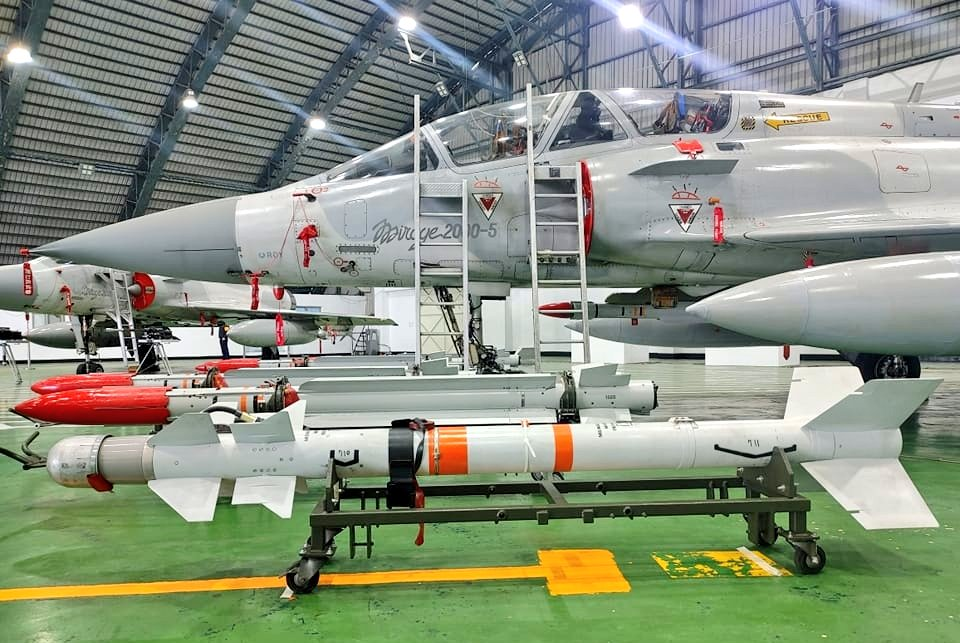Mirage2000: (18, 82, 960, 384), (1, 255, 399, 375)
